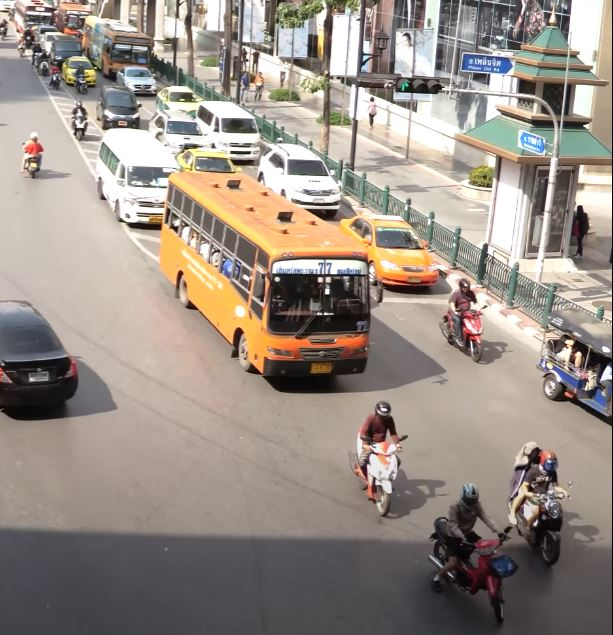Bus: (156, 171, 371, 376), (94, 127, 184, 228), (82, 15, 152, 78), (196, 101, 261, 161), (57, 2, 93, 40), (14, 1, 53, 36)
Car: (1, 298, 78, 405), (340, 212, 440, 290), (255, 143, 340, 215), (146, 110, 210, 151), (94, 85, 141, 127), (177, 149, 236, 175), (155, 85, 200, 116), (115, 65, 157, 95), (61, 55, 97, 85)
Motorcycle: (423, 482, 516, 625), (507, 439, 573, 566), (349, 401, 413, 520), (440, 276, 489, 363), (19, 132, 44, 180), (69, 99, 89, 141), (47, 60, 64, 92), (73, 63, 90, 94)
TukTuk: (536, 310, 613, 424)
